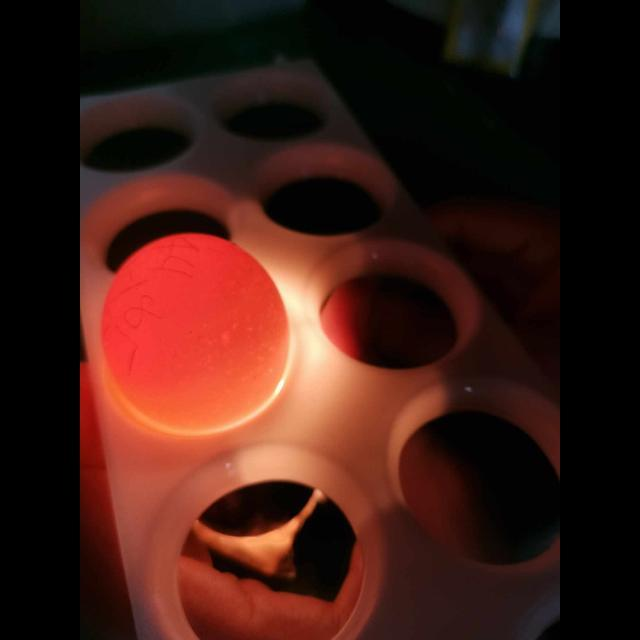Infertile: (104, 233, 290, 431)
